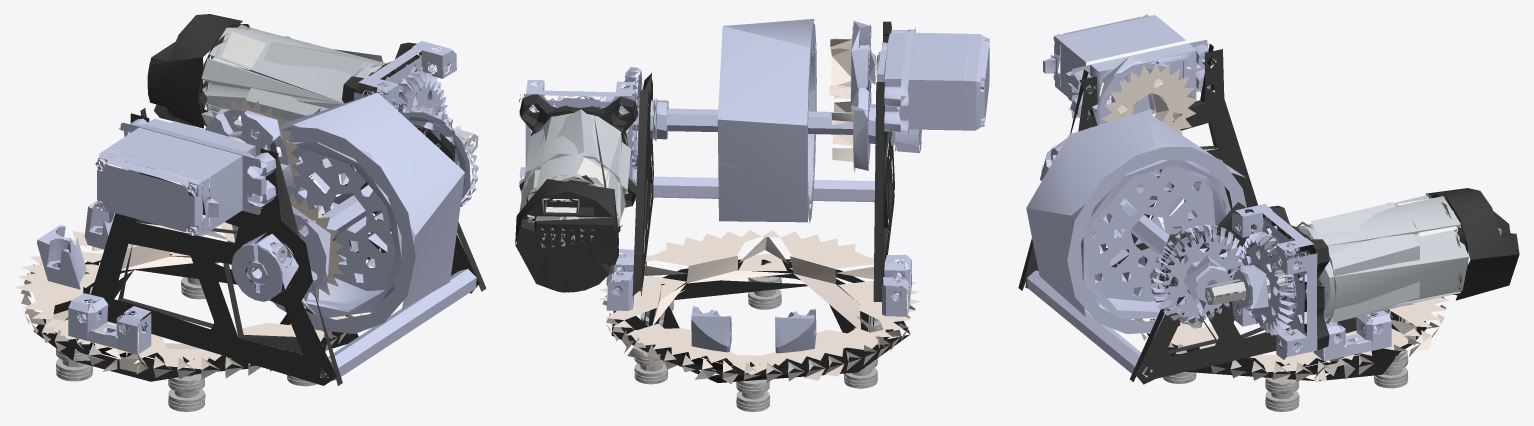
3 renders of one model, left to right at view 1: azimuth 30°, elevation 25°; view 2: azimuth 150°, elevation 25°; view 3: azimuth 270°, elevation 25°, orthographic. The views are drawn at different scales.
Visible parts, largest first — view 1: small; view 2: small; view 3: small.
Boxes of the visible parts, left/top/right/bottom form: small: left=15, top=14, right=486, bottom=411; small: left=515, top=19, right=989, bottom=411; small: left=1018, top=14, right=1519, bottom=411.
Size of the model in its own units: 0.1634 by 0.1125 by 0.1775.
